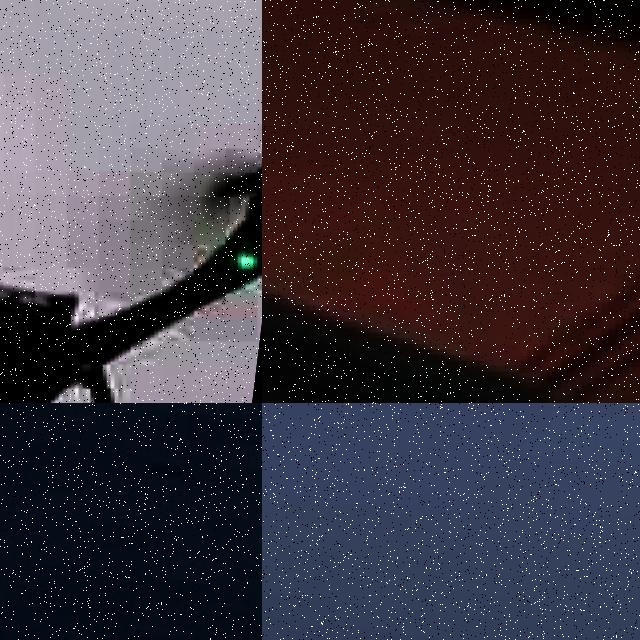0: (0, 0, 262, 403)
drone: (262, 0, 640, 403)
